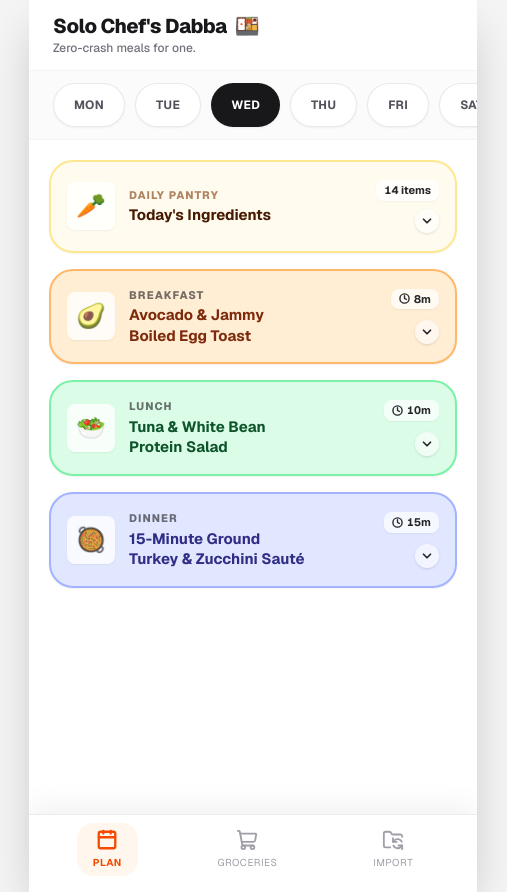
Test case: Page › switches to import tab and shows copy button
Click the button "Import". click: (393, 850)
box: [357,823,429,876]
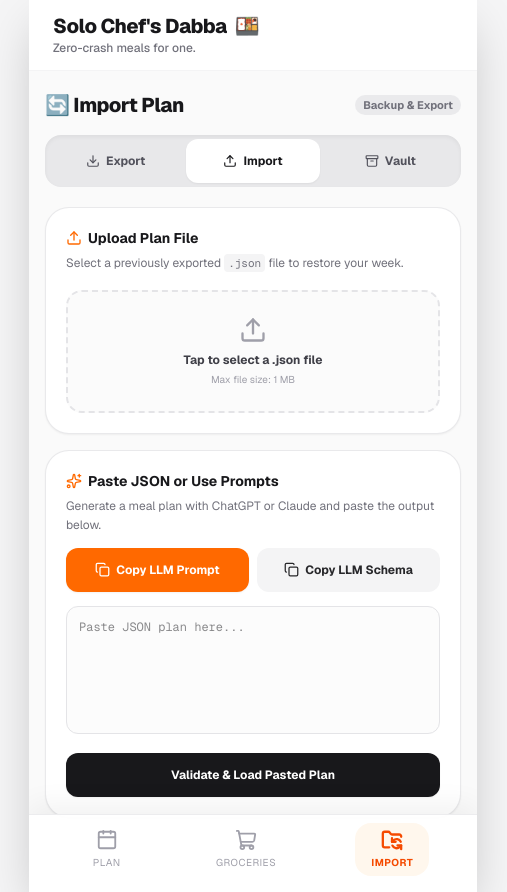
Expected: the text "🔄 Import Plan" is shown, [45,91,184,119]
Expected: the text "Copy LLM Schema" is shown, [305,562,413,578]
